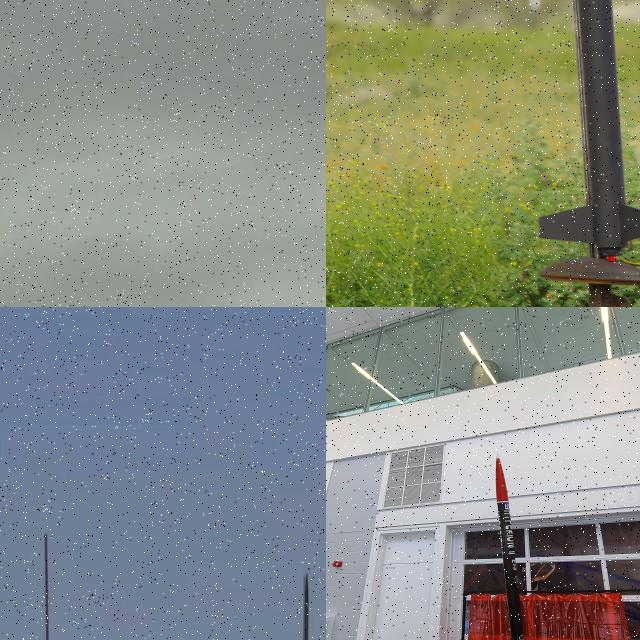Rocket: (539, 0, 640, 263), (496, 453, 525, 640), (298, 573, 312, 640)
